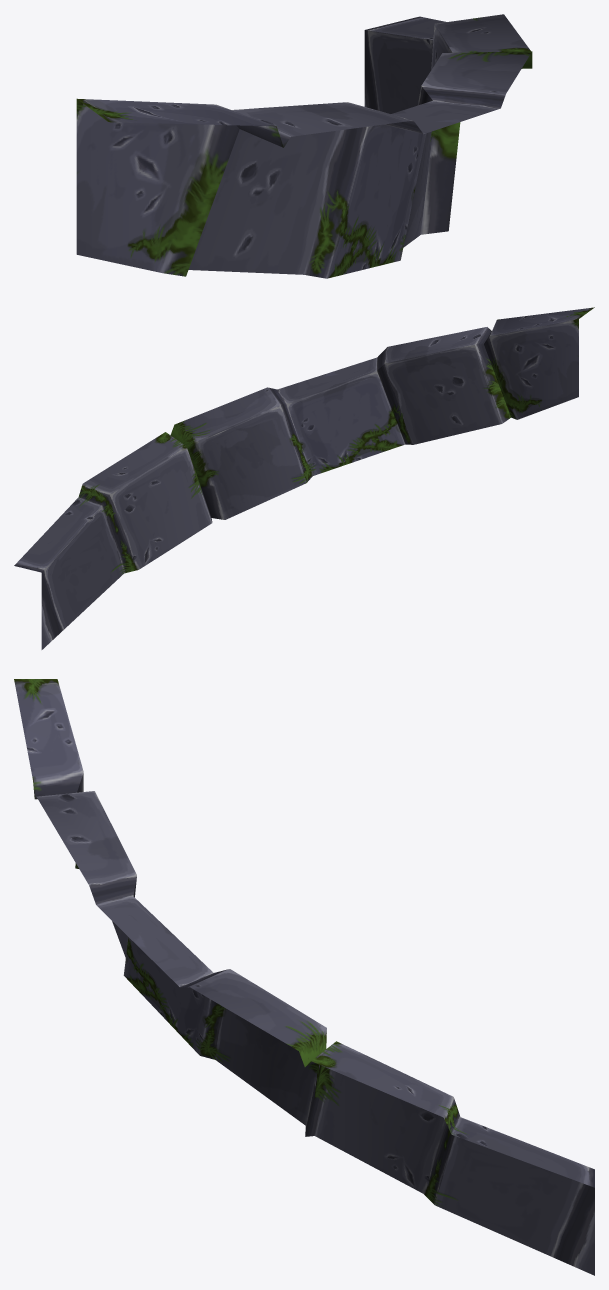
File: MOD_Stairs_01_WallTrim_NW.fbx
3 renders of one model, top to bottom at view 1: azimuth 30°, elevation 25°; view 2: azimuth 150°, elevation 25°; view 3: azimuth 270°, elevation 25°, orthographic. The views are drawn at different scales.
Parts seen in each view (by area): view 1: MOD_Stairs_01_WallTrim_NW; view 2: MOD_Stairs_01_WallTrim_NW; view 3: MOD_Stairs_01_WallTrim_NW.
Boxes of the visible parts, x1=… form: MOD_Stairs_01_WallTrim_NW: x1=76, y1=14, x2=532, y2=278; MOD_Stairs_01_WallTrim_NW: x1=14, y1=307, x2=594, y2=649; MOD_Stairs_01_WallTrim_NW: x1=14, y1=679, x2=594, y2=1275.
Size of what is drawn, in the model's own units: 400 by 281 by 400.
